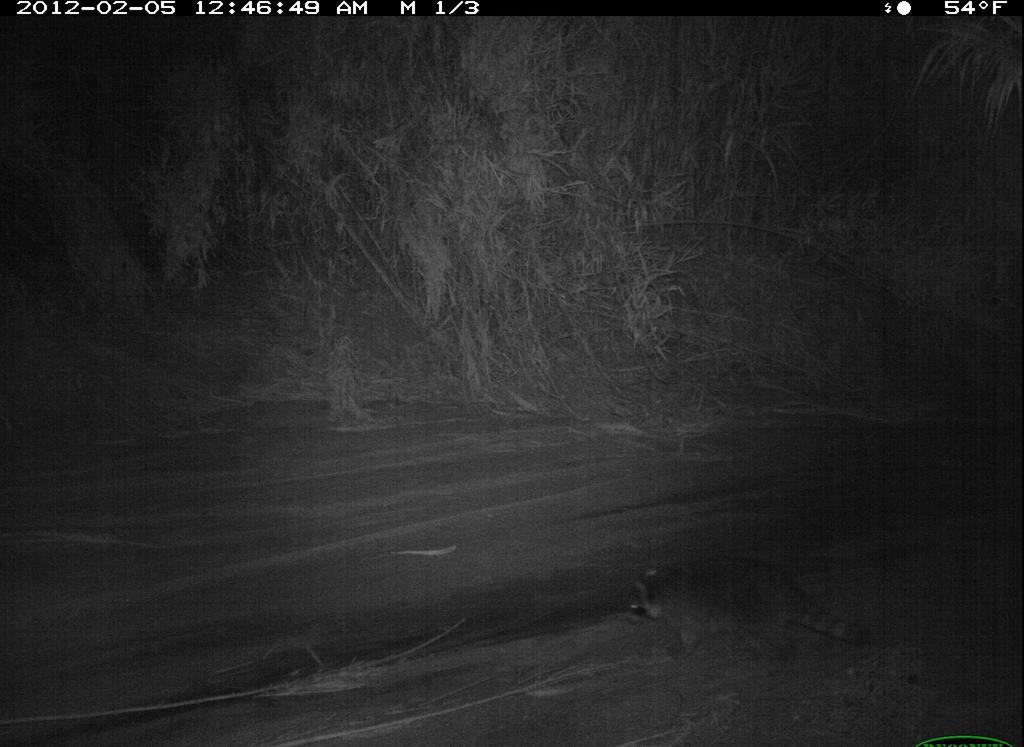raccoon: (625, 548, 876, 671)
